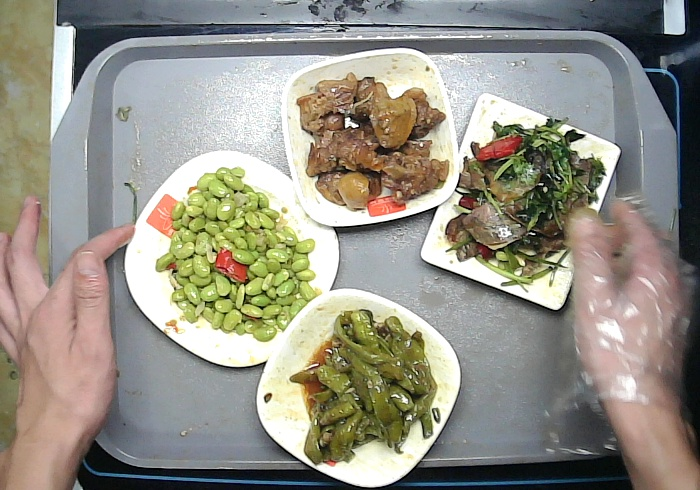SHKJ-Bai_Se_Cai_Die: (255, 286, 462, 489)
SHKJ-Bai_Se_Si_Fang_Cai_Die: (121, 148, 340, 370)
SHKJ-Bai_Se_Xiao_Fang_Die: (278, 45, 460, 226)
SHKJ-Si_Fang_Min: (420, 91, 623, 314)
